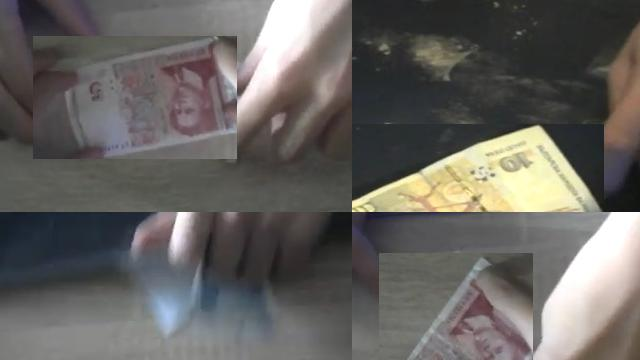10leva: (352, 124, 604, 212)
5leva: (33, 36, 237, 159), (404, 253, 533, 360)
